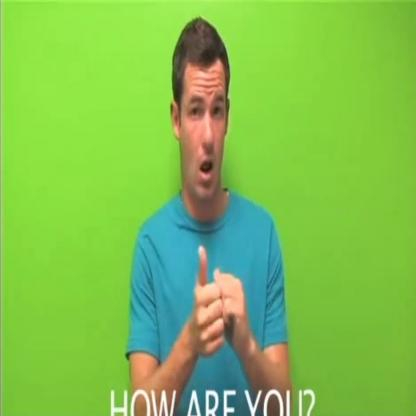HowAreYou: (183, 250, 271, 368)
